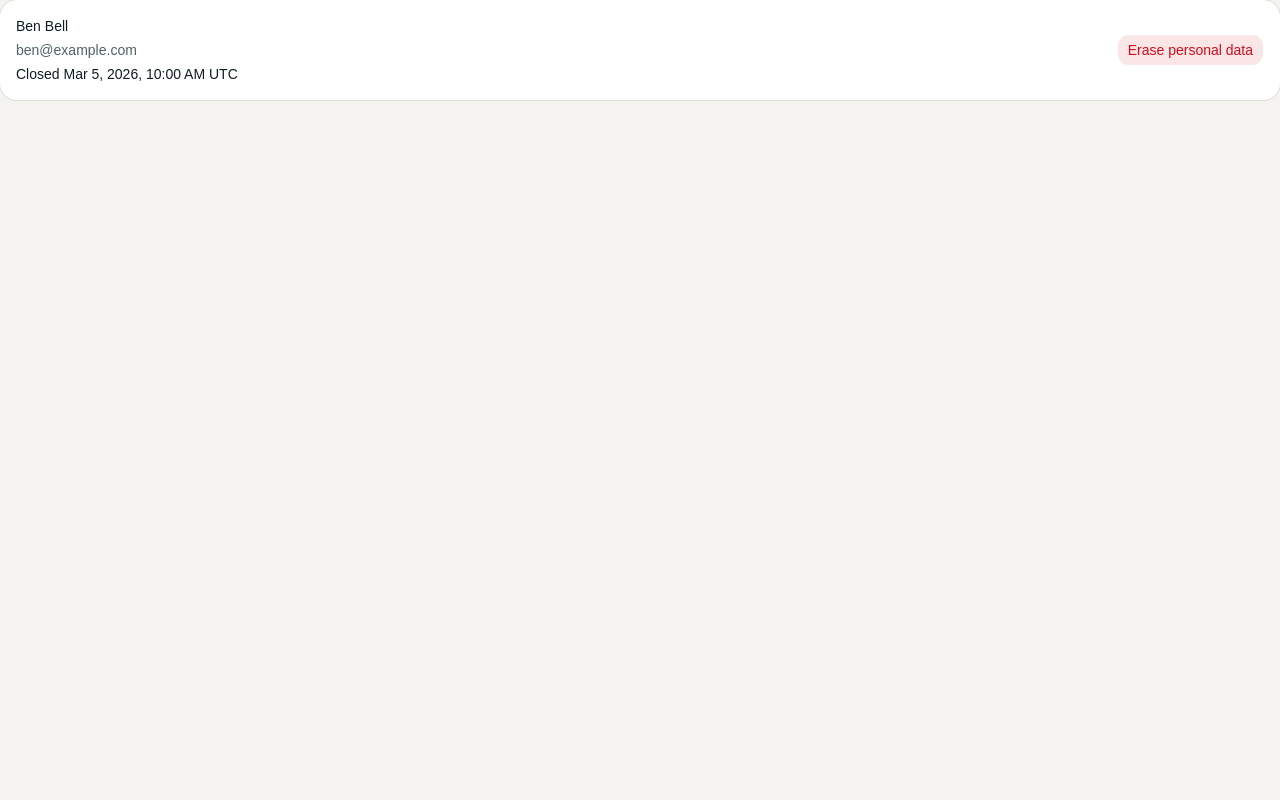
MembersAdminPage › explains why an erasure was refused
Step 1. Click the button with aria-label "Erase the personal data of Ben" → (1190,50), box [1117,34,1264,66]
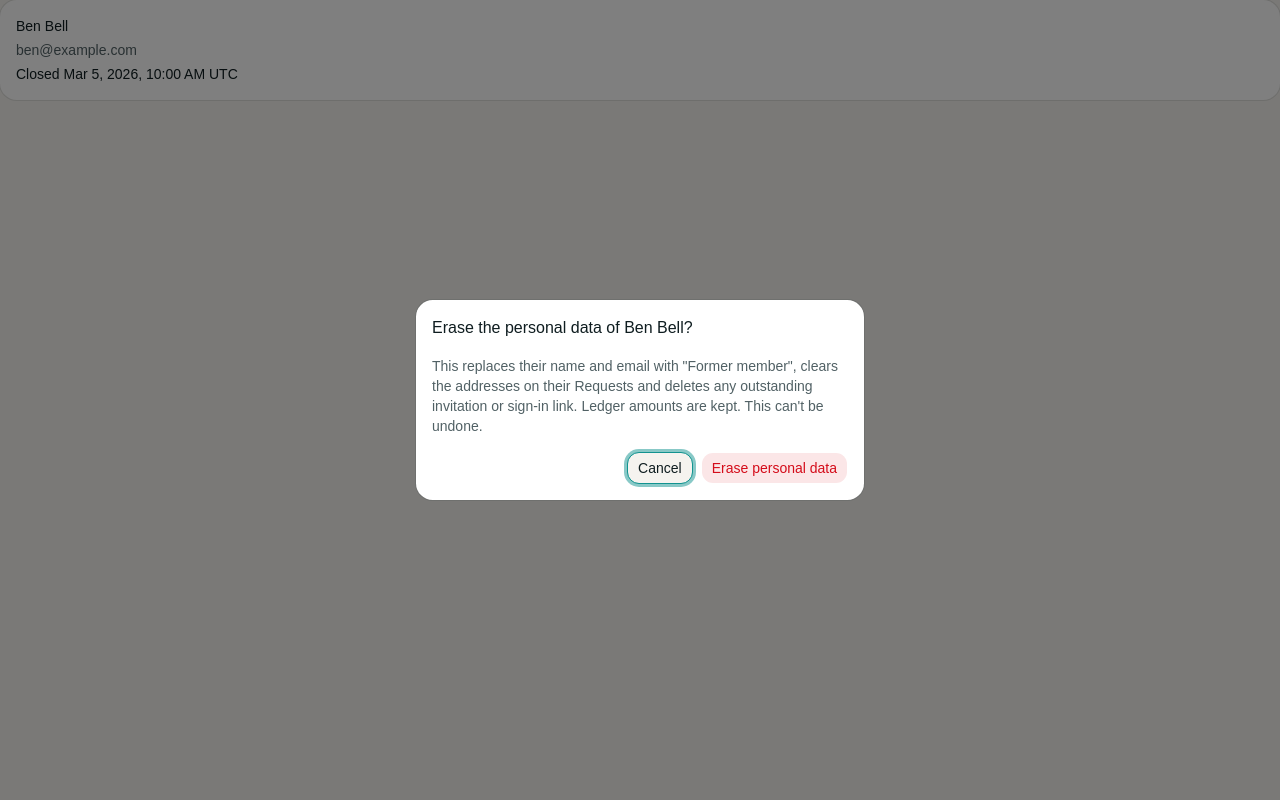
Step 2. Click the button "Erase personal data" → (774,468), box [701,452,848,484]
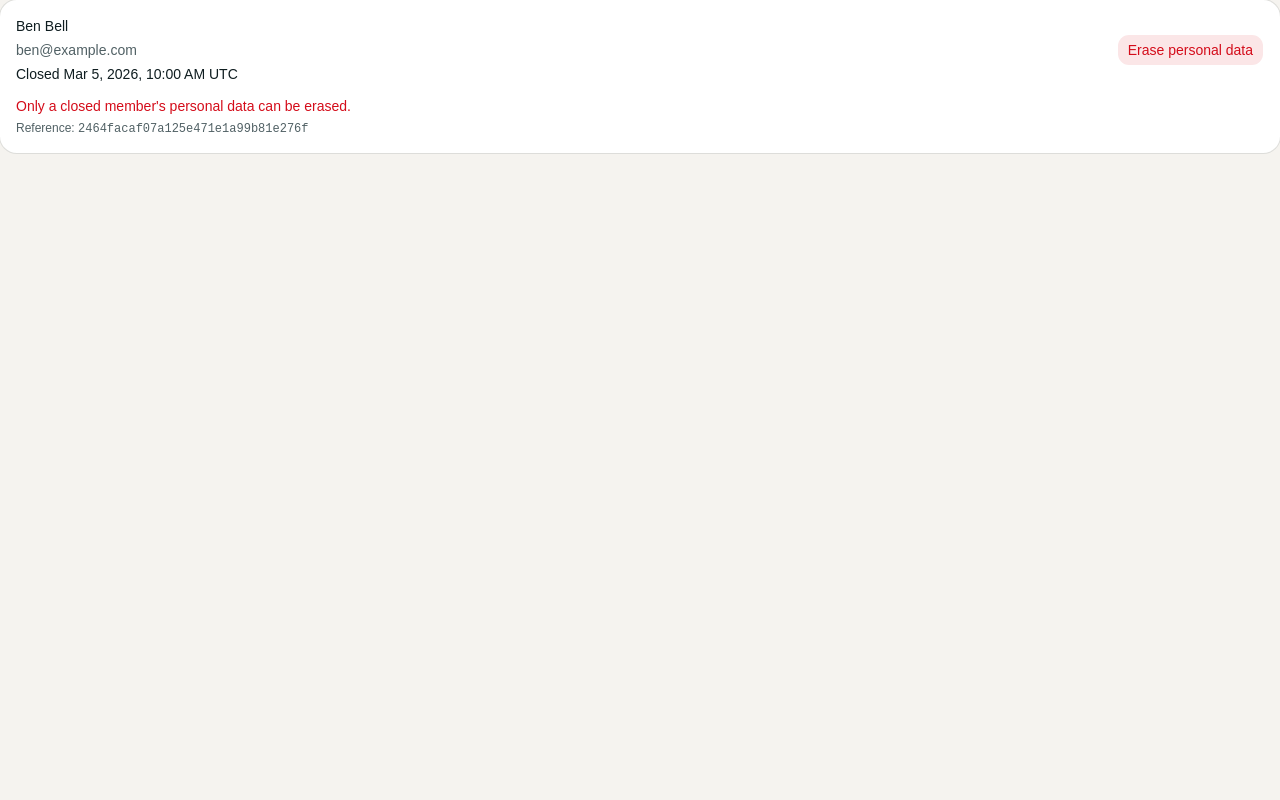
Check: the message shows "Only a closed member's personal data can be erased.", box [16,98,351,114]
